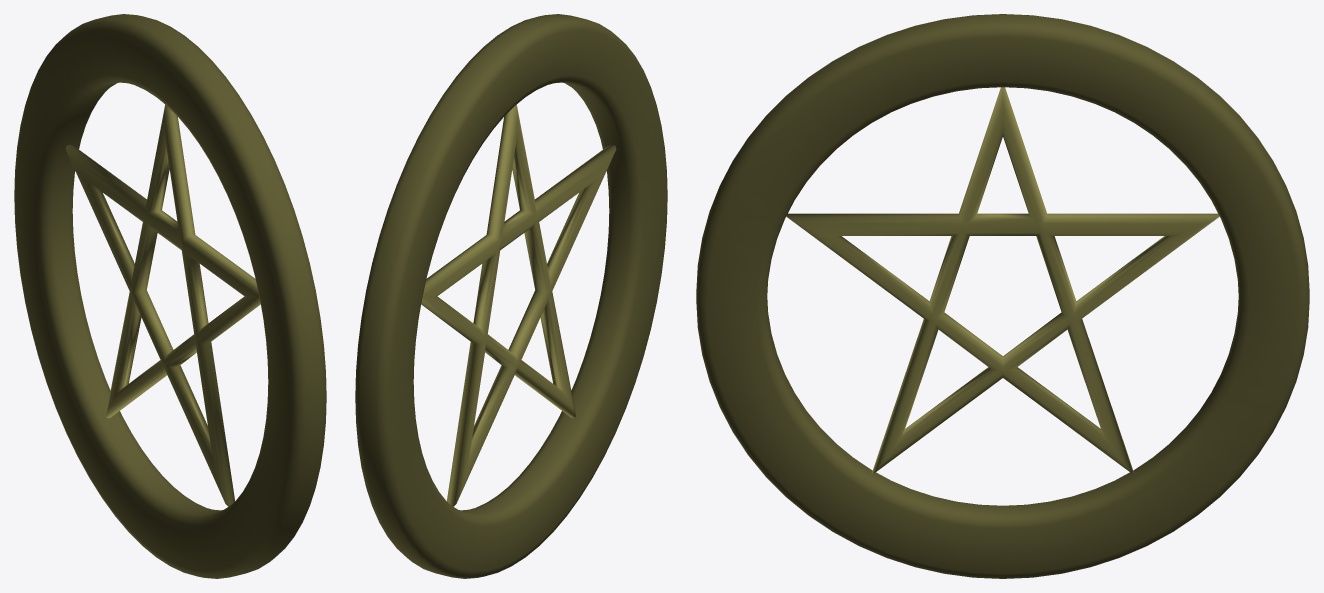
The model's file is pentagram.glb.
The picture shows the model from 3 angles, left to right: view 1: azimuth 30°, elevation 25°; view 2: azimuth 150°, elevation 25°; view 3: azimuth 270°, elevation 25°; orthographic projection. The views are drawn at different scales.
Parts seen in each view (by area): view 1: Object_2, Object_3; view 2: Object_2, Object_3; view 3: Object_2, Object_3.
Part boxes in pixels (box(x1,y1,x2,y2)): Object_2: box(14, 14, 326, 578); Object_3: box(65, 104, 260, 506); Object_2: box(355, 14, 667, 578); Object_3: box(421, 104, 616, 506); Object_2: box(696, 14, 1309, 578); Object_3: box(786, 87, 1219, 474).
Bounding box in the file's own units: 0.2 × 2.99 × 2.99.
